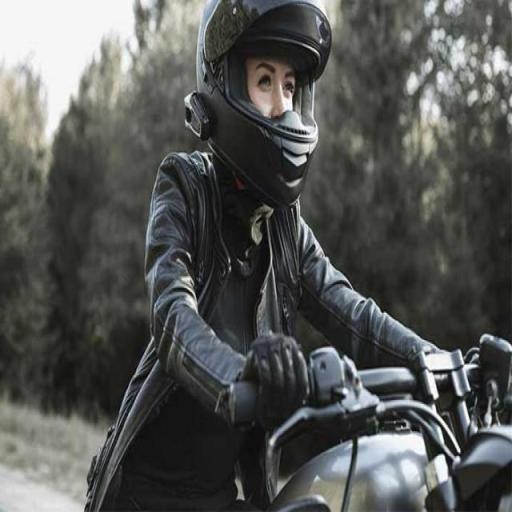Helmet: (186, 0, 331, 207)
Motor: (268, 336, 511, 511)
